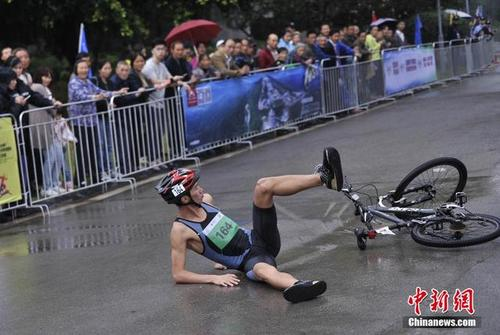10+: (1, 11, 500, 305)
down: (153, 140, 346, 305)
